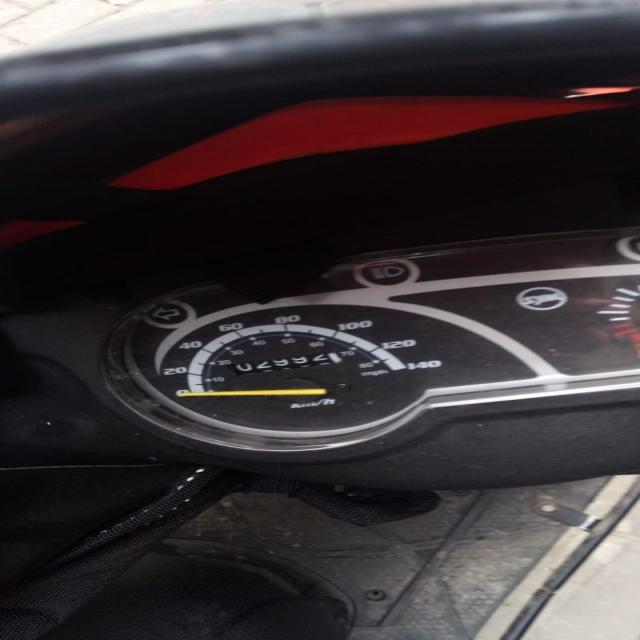odometer: (230, 351, 344, 377)
